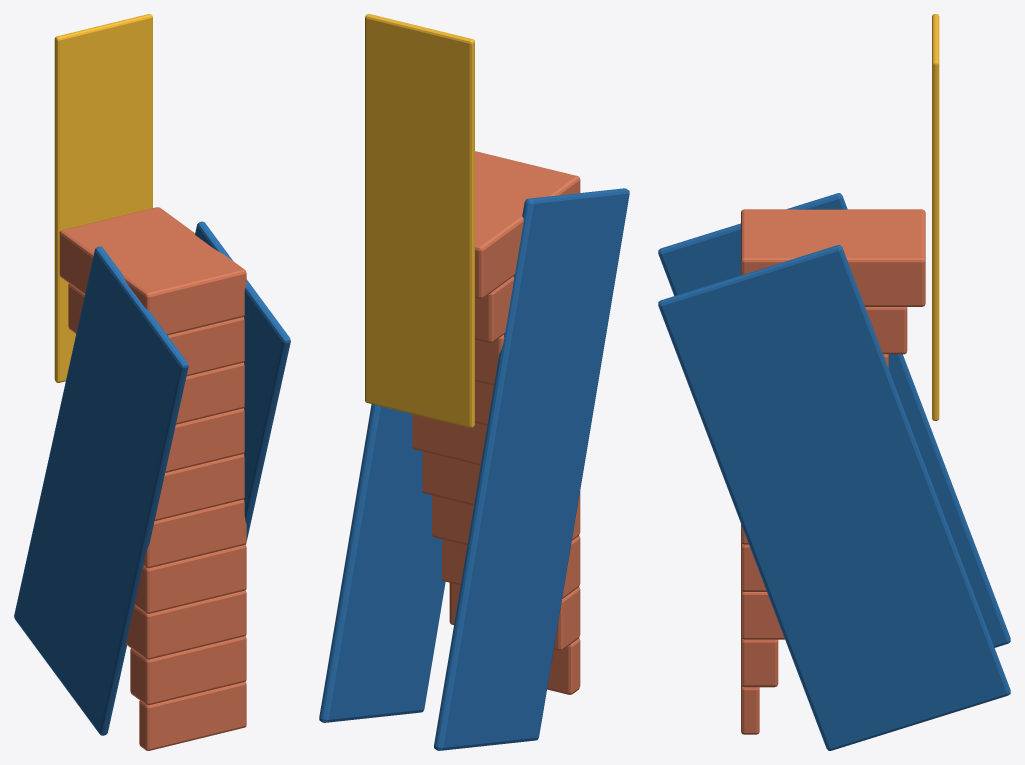
File: CR_TrainRamp.fbx
3 renders of one model, left to right at view 1: azimuth 30°, elevation 25°; view 2: azimuth 150°, elevation 25°; view 3: azimuth 270°, elevation 25°, orthographic. The views are drawn at different scales.
Visible parts, largest first — view 1: Cobalt_LeftRail, Gold_TopStripe, Brick_RampStep_9, Cobalt_RightRail, Brick_RampStep_2, Brick_RampStep_1, Brick_RampStep_3, Brick_RampStep_0, Brick_RampStep_4, Brick_RampStep_5, Brick_RampStep_8, Brick_RampStep_6 (+1 smaller); view 2: Cobalt_LeftRail, Gold_TopStripe, Cobalt_RightRail, Brick_RampStep_9, Brick_RampStep_5, Brick_RampStep_4, Brick_RampStep_3, Brick_RampStep_8, Brick_RampStep_2, Brick_RampStep_1, Brick_RampStep_0, Brick_RampStep_7 (+1 smaller); view 3: Cobalt_RightRail, Brick_RampStep_9, Cobalt_LeftRail, Gold_TopStripe, Brick_RampStep_1, Brick_RampStep_2, Brick_RampStep_8, Brick_RampStep_0, Brick_RampStep_3.
Part boxes in pixels (<box>): Cobalt_LeftRail: <box>14,246,188,735</box>; Gold_TopStripe: <box>54,14,152,382</box>; Brick_RampStep_9: <box>59,207,246,335</box>; Cobalt_RightRail: <box>195,221,290,540</box>; Brick_RampStep_2: <box>126,590,246,659</box>; Brick_RampStep_1: <box>130,636,246,705</box>; Brick_RampStep_3: <box>134,544,246,613</box>; Brick_RampStep_0: <box>139,681,246,750</box>; Brick_RampStep_4: <box>143,499,246,568</box>; Brick_RampStep_5: <box>154,454,244,521</box>; Brick_RampStep_8: <box>68,283,244,376</box>; Brick_RampStep_6: <box>165,408,244,472</box>; Cobalt_LeftRail: <box>434,188,629,750</box>; Gold_TopStripe: <box>365,14,474,427</box>; Cobalt_RightRail: <box>319,404,445,722</box>; Brick_RampStep_9: <box>475,151,580,298</box>; Brick_RampStep_5: <box>412,414,487,465</box>; Brick_RampStep_4: <box>422,451,480,505</box>; Brick_RampStep_3: <box>432,491,580,545</box>; Brick_RampStep_8: <box>475,276,513,342</box>; Brick_RampStep_2: <box>442,536,580,598</box>; Brick_RampStep_1: <box>449,583,580,650</box>; Brick_RampStep_0: <box>547,638,580,694</box>; Brick_RampStep_7: <box>475,335,504,385</box>; Cobalt_RightRail: <box>658,245,1010,750</box>; Brick_RampStep_9: <box>741,209,925,306</box>; Cobalt_LeftRail: <box>658,193,1010,647</box>; Gold_TopStripe: <box>932,14,939,420</box>; Brick_RampStep_1: <box>741,637,778,687</box>; Brick_RampStep_2: <box>741,590,784,639</box>; Brick_RampStep_8: <box>865,307,907,354</box>; Brick_RampStep_0: <box>741,685,759,734</box>; Brick_RampStep_3: <box>741,542,766,591</box>.
Bounding box in the file's own units: 1.77 × 10.12 × 4.7.
